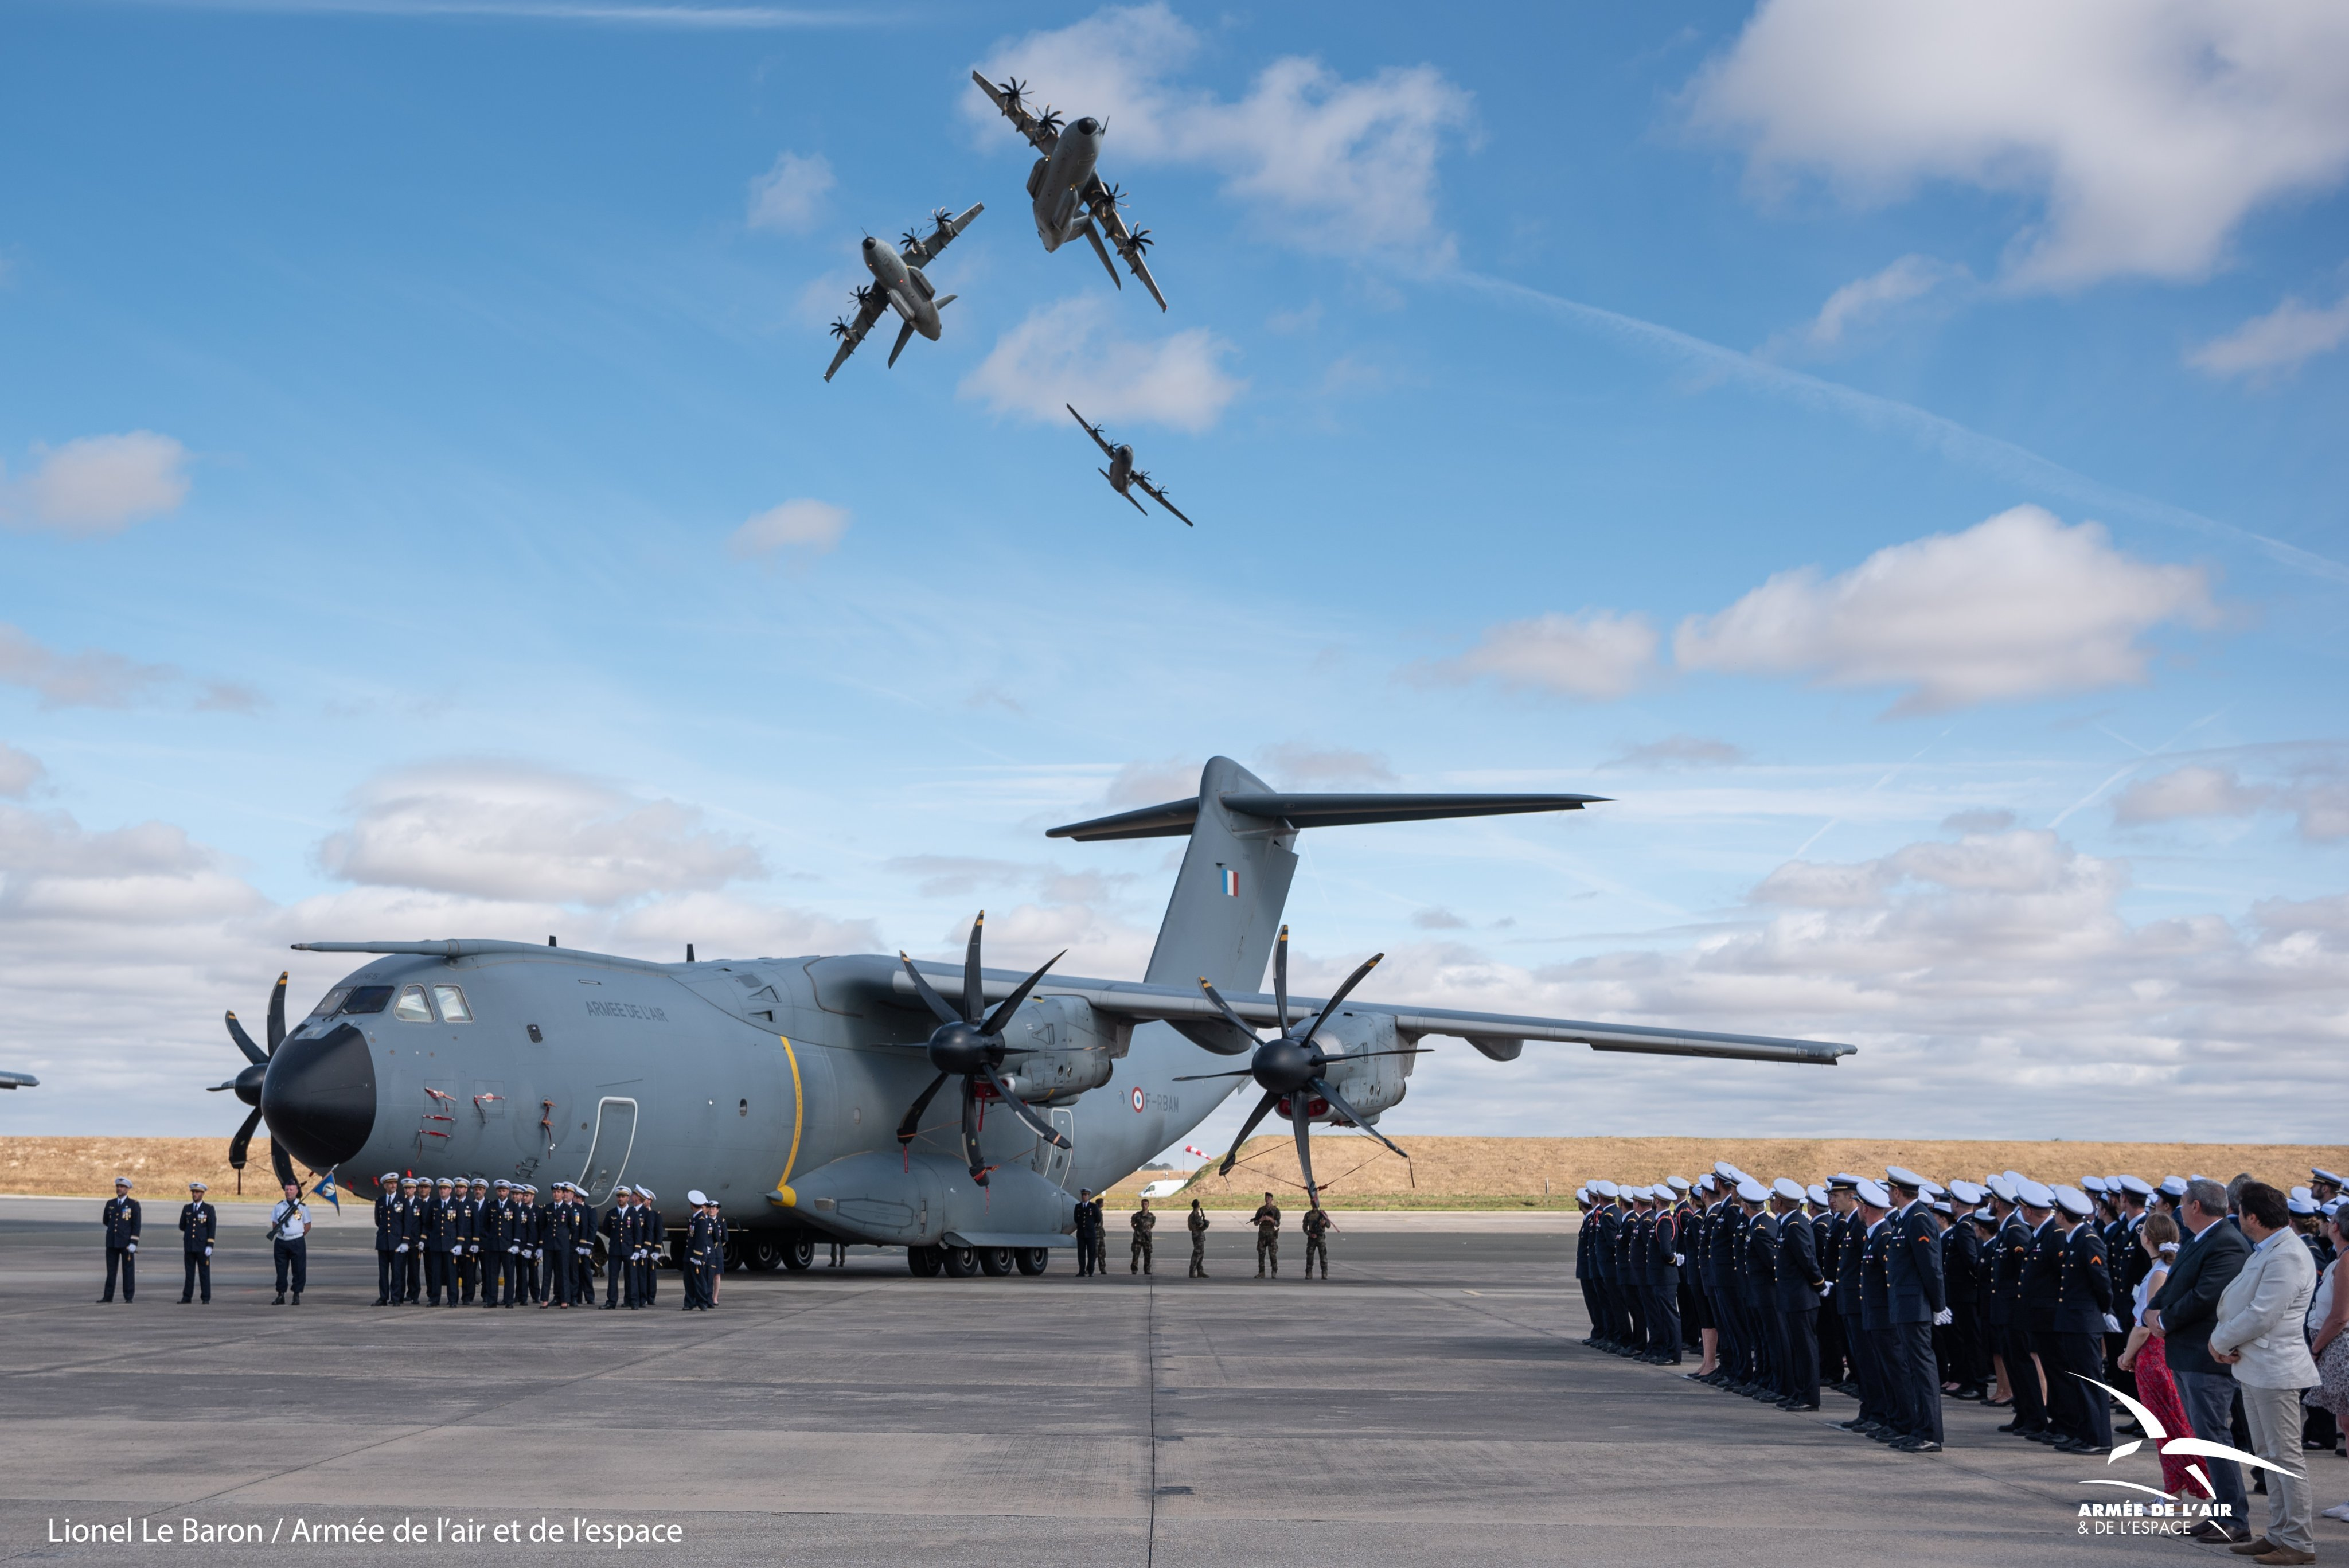airplane: (206, 756, 1858, 1284), (971, 68, 1168, 313), (824, 201, 985, 383), (1067, 402, 1195, 528)
